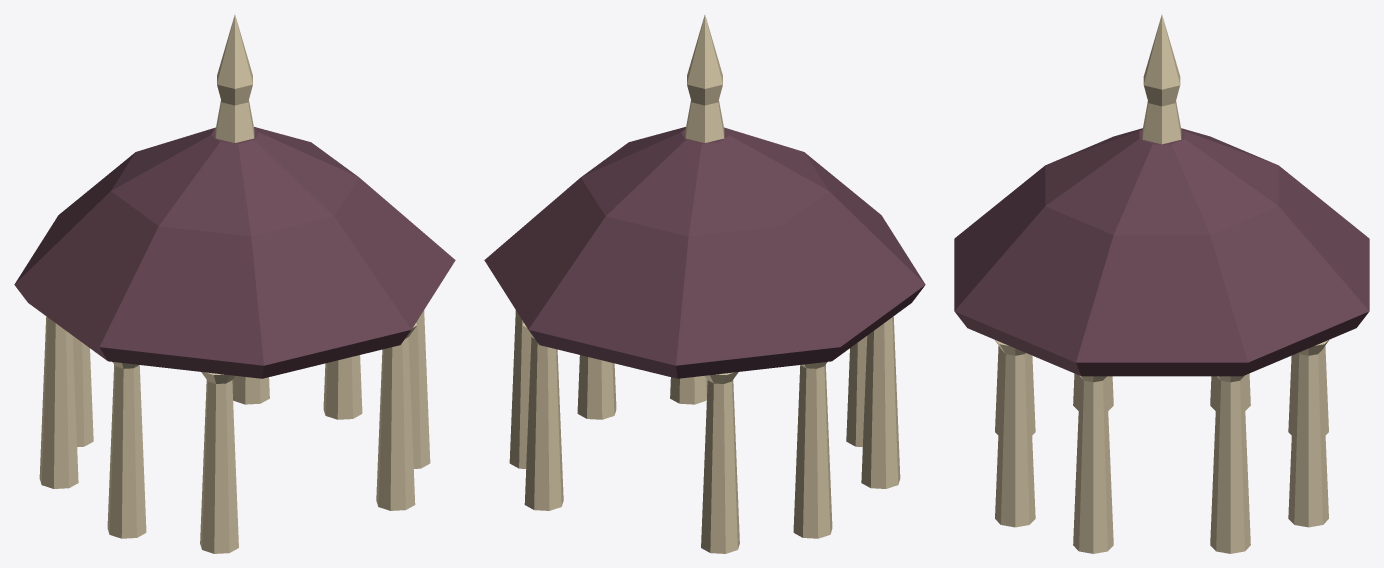
The model's file is Royal_Pavilion_Cover.fbx.
3 views of the same model, side by side, from view 1: azimuth 30°, elevation 25°; view 2: azimuth 150°, elevation 25°; view 3: azimuth 270°, elevation 25° (orthographic).
Visible parts, largest first — view 1: OpenBuildings_Royal_Pavilion_Cover; view 2: OpenBuildings_Royal_Pavilion_Cover; view 3: OpenBuildings_Royal_Pavilion_Cover.
Boxes of the visible parts, x1=… form: OpenBuildings_Royal_Pavilion_Cover: x1=14, y1=15, x2=455, y2=553; OpenBuildings_Royal_Pavilion_Cover: x1=484, y1=15, x2=925, y2=553; OpenBuildings_Royal_Pavilion_Cover: x1=954, y1=15, x2=1369, y2=553.
Size of the model in its own units: 5.91 by 7.25 by 5.91.
